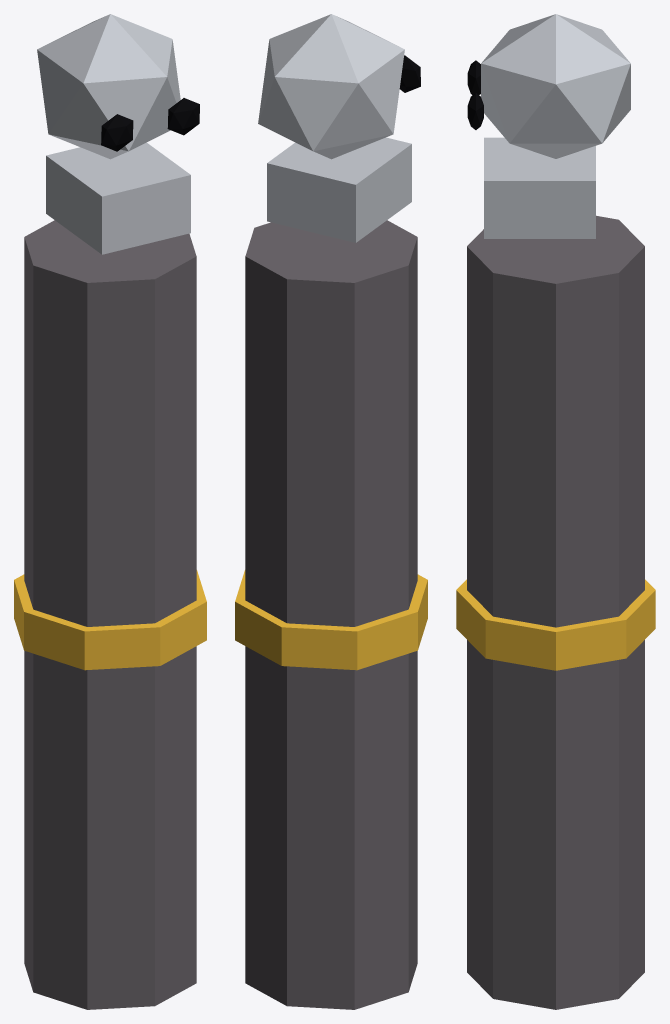
File: Prop_OR_SkullTotem_11.glb
3 views of the same model, side by side, from view 1: azimuth 30°, elevation 25°; view 2: azimuth 150°, elevation 25°; view 3: azimuth 270°, elevation 25° (orthographic).
Visible parts, largest first — view 1: Prop_OR_SkullTotem_11; view 2: Prop_OR_SkullTotem_11; view 3: Prop_OR_SkullTotem_11.
Part boxes in pixels (x1,y1,x2,y2): Prop_OR_SkullTotem_11: [14, 14, 206, 1009]; Prop_OR_SkullTotem_11: [235, 14, 427, 1009]; Prop_OR_SkullTotem_11: [456, 14, 655, 1009].
Size of the model in its own units: 0.56 by 2.97 by 0.56.
